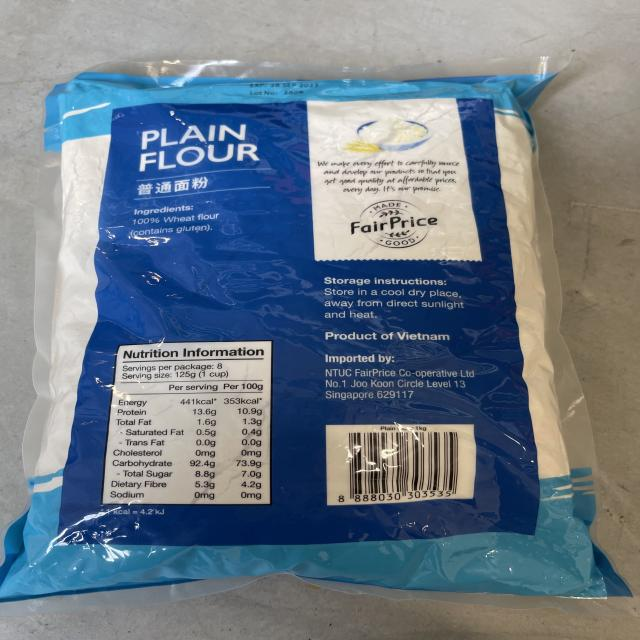object_name: (47, 77, 570, 594)
